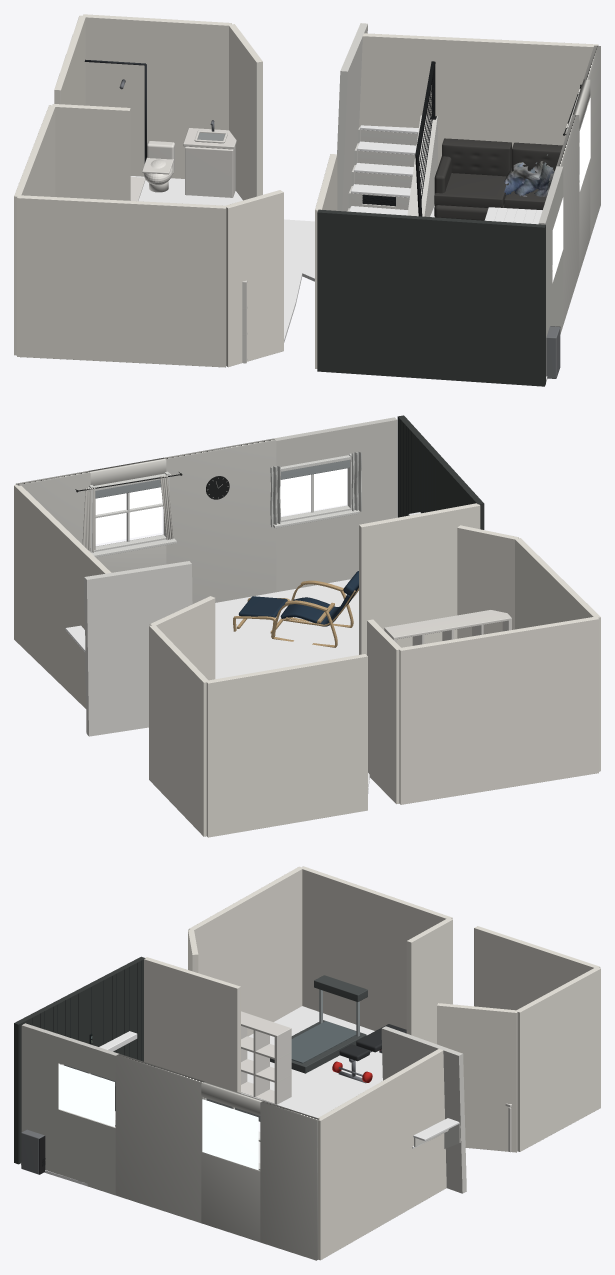
3 renders of one model, top to bottom at view 1: azimuth 30°, elevation 25°; view 2: azimuth 150°, elevation 25°; view 3: azimuth 270°, elevation 25°, orthographic. The views are drawn at different scales.
Visible parts, largest first — view 1: source-wall-8-replacement, home-lower-level_observed_wall_0_panel, home-lower-level_observed_wall_6_panel, home-lower-level_observed_wall_4_panel, home-lower-level_observed_wall_10_panel, home-lower-level_observed_wall_2_panel, home-lower-level_observed_wall_5_panel, home-lower-level_independently_traced_floor, source white stair-side wall, measured plane, inferred crop , actual-second-window-wall-between-windows, home-lower-level_observed_wall_1_panel, home-lower-level__bath_vanity__cabinet (+27 smaller); view 2: home-lower-level_observed_wall_1_panel, home-lower-level_observed_wall_3_panel, actual-second-window-wall-between-windows, source white stair-side wall, measured plane, inferred crop , home-lower-level_observed_wall_9_panel, home-lower-level_observed_wall_6_panel, home-lower-level_observed_wall_4_panel, home-lower-level_independently_traced_floor, home-lower-level_observed_wall_10_panel, home-lower-level_observed_wall_2_panel, source-wall-8-replacement, actual-window-cutout-wall-below (+16 smaller); view 3: home-lower-level_observed_wall_6_panel, home-lower-level_observed_wall_1_panel, actual-second-window-wall-between-windows, home-lower-level_observed_wall_4_panel, home-lower-level_observed_wall_0_panel, home-lower-level_observed_wall_9_panel, home-lower-level_observed_wall_5_panel, actual-second-window-wall-rightof-second, source-wall-8-replacement, home-lower-level_observed_wall_3_panel, home-lower-level_independently_traced_floor, home-lower-level_observed_wall_2_panel (+15 smaller).
Part boxes in pixels (x1,y1,x2,y2): source-wall-8-replacement: (317, 209, 545, 386); home-lower-level_observed_wall_0_panel: (17, 195, 226, 367); home-lower-level_observed_wall_6_panel: (357, 33, 598, 188); home-lower-level_observed_wall_4_panel: (83, 14, 231, 178); home-lower-level_observed_wall_10_panel: (226, 190, 283, 367); home-lower-level_observed_wall_2_panel: (52, 104, 130, 200); home-lower-level_observed_wall_5_panel: (229, 24, 262, 200); home-lower-level_independently_traced_floor: (130, 176, 547, 382); source white stair-side wall, measured plane, inferred crop : (337, 23, 367, 211); actual-second-window-wall-between-windows: (556, 115, 579, 324); home-lower-level_observed_wall_1_panel: (14, 105, 55, 355); home-lower-level__bath_vanity__cabinet: (185, 146, 235, 197); home-lower-level_observed_wall_1_panel: (399, 617, 598, 804); home-lower-level_observed_wall_3_panel: (206, 654, 367, 837); actual-second-window-wall-between-windows: (164, 438, 276, 603); source white stair-side wall, measured plane, inferred crop : (84, 561, 192, 736); home-lower-level_observed_wall_9_panel: (359, 503, 480, 654); home-lower-level_observed_wall_6_panel: (14, 485, 111, 708); home-lower-level_observed_wall_4_panel: (149, 624, 207, 836); home-lower-level_independently_traced_floor: (215, 579, 369, 793); home-lower-level_observed_wall_10_panel: (457, 525, 518, 638); home-lower-level_observed_wall_2_panel: (367, 619, 401, 803); source-wall-8-replacement: (397, 415, 484, 529); actual-window-cutout-wall-below: (276, 505, 350, 592); home-lower-level_observed_wall_6_panel: (318, 1049, 446, 1260); home-lower-level_observed_wall_1_panel: (302, 866, 452, 1030); actual-second-window-wall-between-windows: (115, 1054, 204, 1222); home-lower-level_observed_wall_4_panel: (515, 967, 600, 1151); home-lower-level_observed_wall_0_panel: (188, 866, 303, 1036); home-lower-level_observed_wall_9_panel: (144, 957, 240, 1092); home-lower-level_observed_wall_5_panel: (437, 1003, 517, 1152); actual-second-window-wall-rightof-second: (260, 1101, 319, 1260); source-wall-8-replacement: (14, 956, 145, 1164); home-lower-level_observed_wall_3_panel: (474, 926, 600, 1010); home-lower-level_independently_traced_floor: (21, 1006, 382, 1186); home-lower-level_observed_wall_2_panel: (406, 918, 452, 1044).
Bounding box in the file's own units: 8.99 × 2.3 × 8.76.
